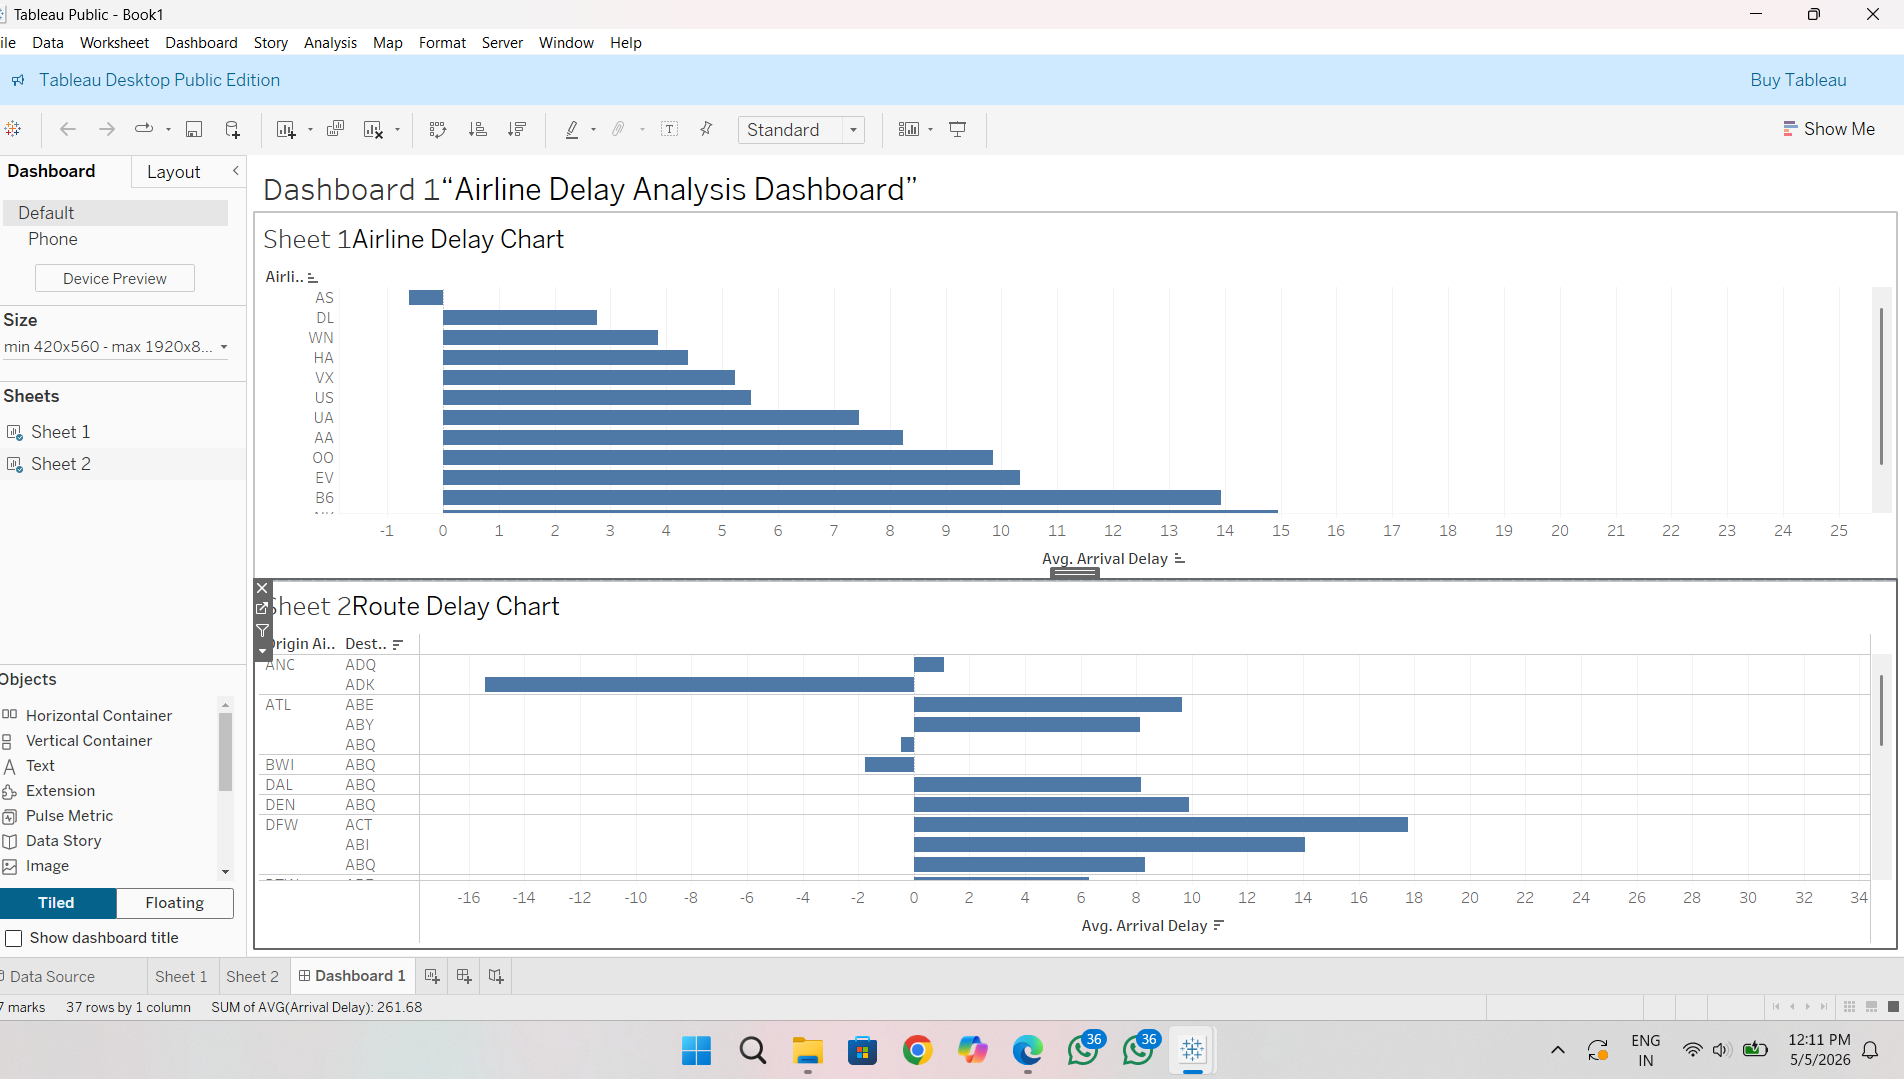

What the dashboard file says about the page in this screenshot:
{"tool":"tableau","page":{"name":"Dashboard 1","canvas":[1000,1000],"units":"permille","ordinal":0},"visuals":[{"type":"title","box":[6.8,12.9,986.4,80.6]},{"type":"worksheet","title":"Sheet 1","mark":"Automatic","rows":["AIRLINE"],"cols":["ARRIVAL_DELAY"],"box":[6.8,93.5,986.4,446.8]},{"type":"worksheet","title":"Sheet 2","mark":"Automatic","rows":["ORIGIN_AIRPORT","DESTINATION_AIRPORT"],"cols":["ARRIVAL_DELAY"],"box":[6.8,540.3,986.4,446.8]}]}

Visuals, with their boxes on the dashboard's canvas, which has no fixed pixel size, in thousandths of its width and height (x1, y1, x2, y2). These are canvas units, not pixel positions in the 1904x1079 screenshot, which may show the page scaled, cropped or inside an application window:
title: bbox=(7, 13, 993, 94)
"Sheet 1" worksheet: bbox=(7, 94, 993, 540)
"Sheet 2" worksheet: bbox=(7, 540, 993, 987)
